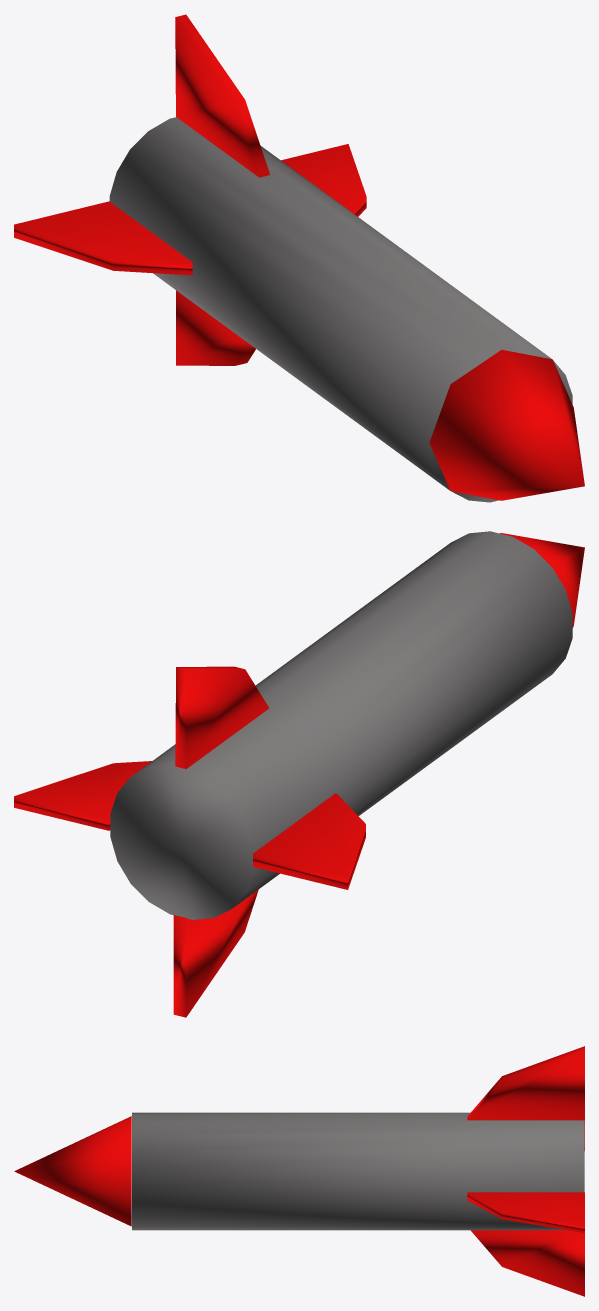
File: rocket.fbx
3 views of the same model, one above another, from view 1: azimuth 30°, elevation 25°; view 2: azimuth 150°, elevation 25°; view 3: azimuth 270°, elevation 25° (orthographic). The views are drawn at different scales.
Visible parts, largest first — view 1: Cube; view 2: Cube; view 3: Cube.
Part boxes in pixels (<box>): Cube: <box>14,14,584,502</box>; Cube: <box>14,531,584,1017</box>; Cube: <box>14,1046,584,1296</box>.
Size of the model in its own units: 4.63 by 4.61 by 9.69.
